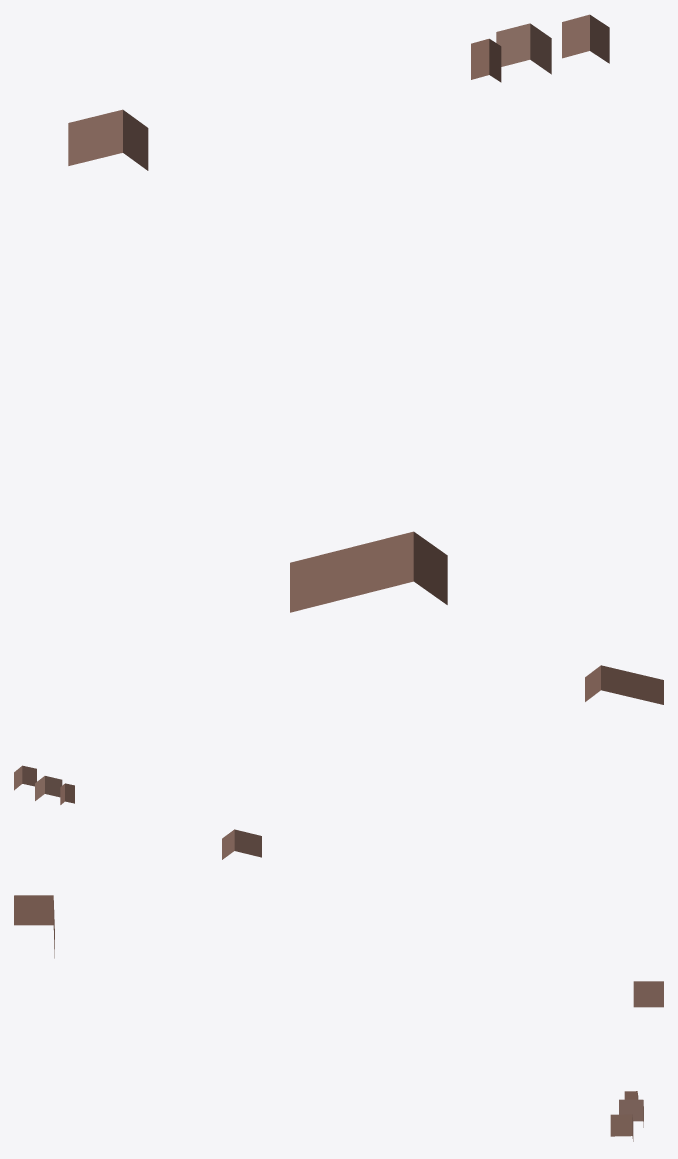
The model's file is c_1636_17824_buildings_residential.glb.
3 views of the same model, one above another, from view 1: azimuth 30°, elevation 25°; view 2: azimuth 150°, elevation 25°; view 3: azimuth 270°, elevation 25° (orthographic). The views are drawn at different scales.
Visible parts, largest first — view 1: geometry_0; view 2: geometry_0; view 3: geometry_0.
Boxes of the visible parts, bbox=[...] form: geometry_0: bbox=[68, 14, 609, 612]; geometry_0: bbox=[14, 665, 663, 859]; geometry_0: bbox=[14, 895, 663, 1141].
Size of the model in its own units: 181 by 11.68 by 216.
